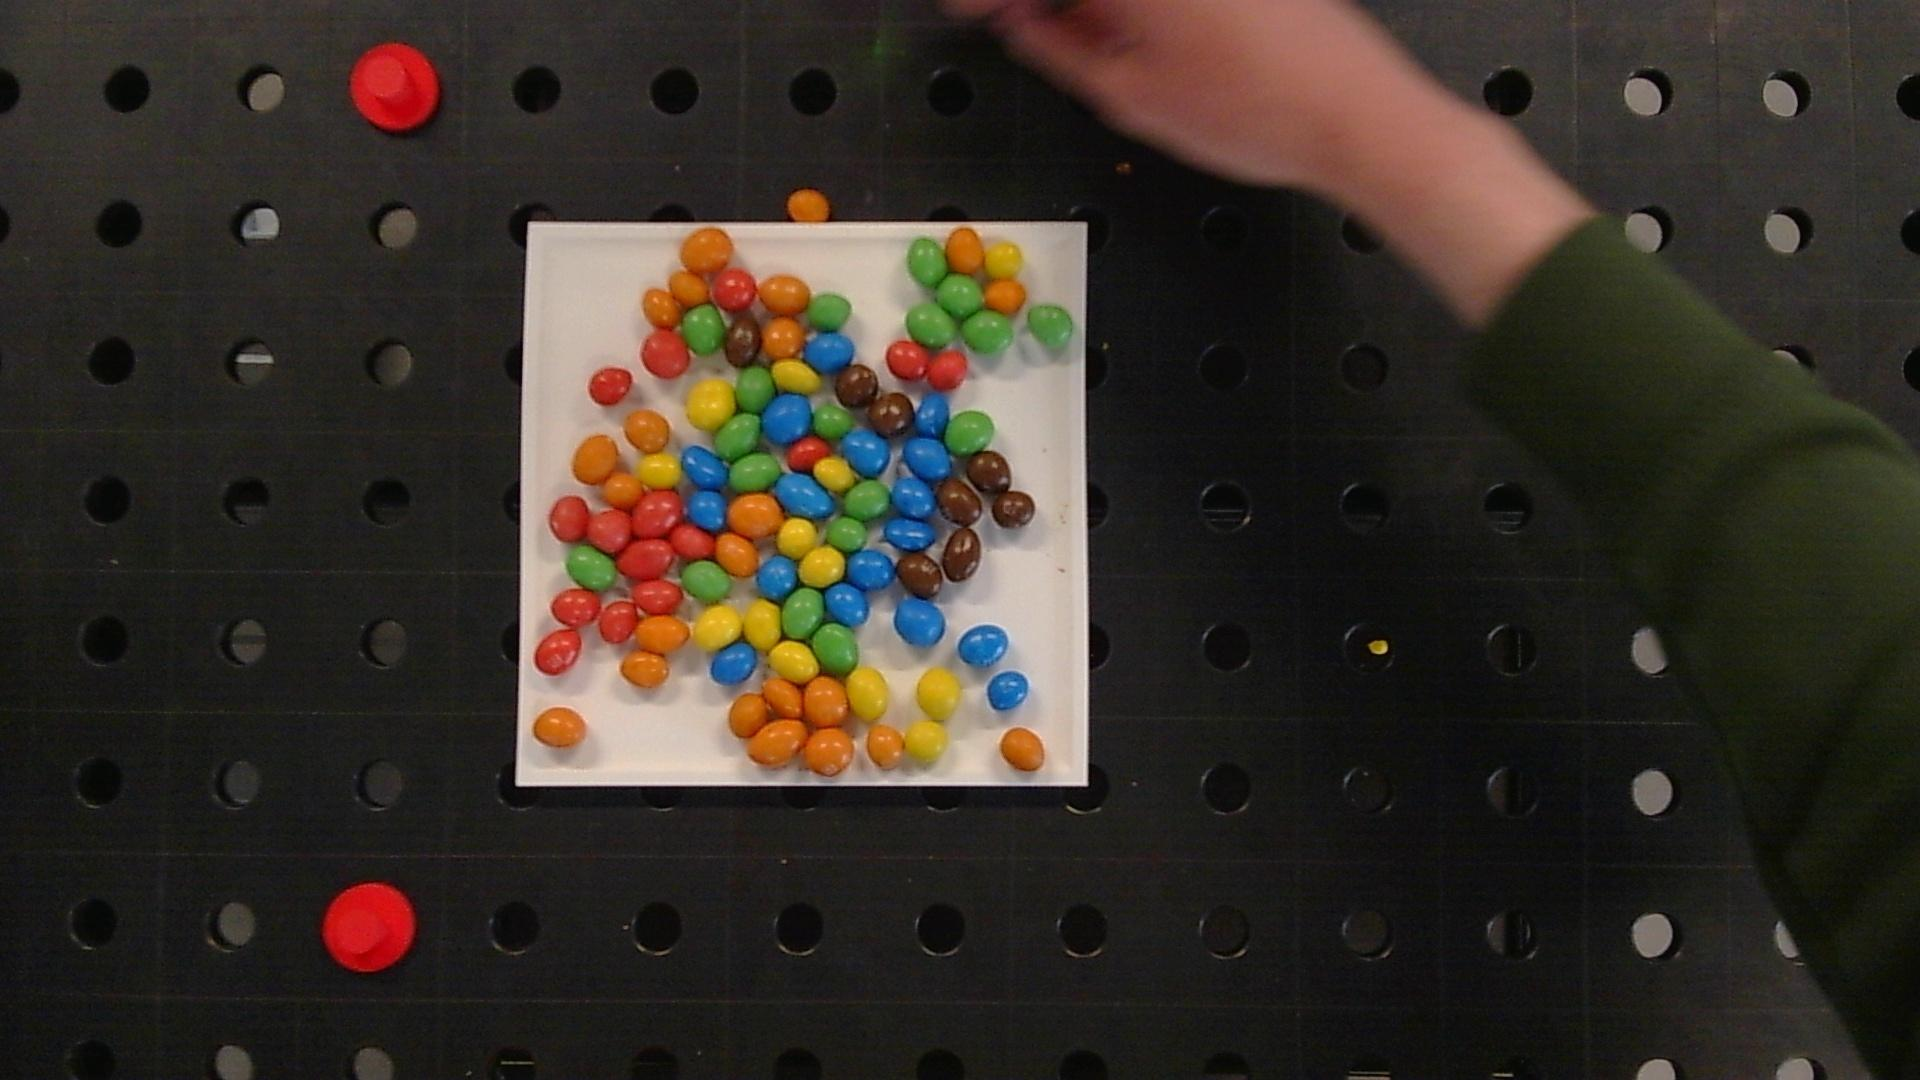blue: (775, 472, 836, 517), (894, 599, 945, 646), (762, 393, 811, 442), (844, 431, 890, 476), (709, 642, 758, 684), (804, 331, 855, 372), (959, 625, 1009, 666), (682, 446, 728, 489), (903, 438, 951, 480), (847, 551, 895, 591), (825, 584, 869, 625), (893, 477, 936, 518), (757, 555, 798, 596), (884, 518, 935, 550), (988, 671, 1029, 711), (687, 488, 727, 529), (915, 394, 948, 438)
brown: (938, 477, 982, 526), (940, 529, 981, 582), (898, 554, 942, 599), (870, 393, 914, 436), (836, 365, 878, 407), (967, 452, 1010, 492), (725, 315, 760, 364), (992, 491, 1036, 527)
green: (961, 311, 1015, 353), (812, 624, 858, 673), (566, 546, 616, 589), (680, 306, 725, 353), (715, 413, 761, 458), (936, 274, 984, 318), (945, 411, 994, 454), (680, 562, 732, 601), (1027, 305, 1073, 348), (907, 303, 955, 345), (782, 589, 823, 637), (907, 239, 947, 285), (844, 480, 890, 520), (731, 454, 779, 491), (736, 365, 773, 411), (808, 293, 852, 330), (827, 516, 868, 551), (812, 405, 853, 439)
orange: (748, 719, 807, 766), (804, 729, 856, 775), (729, 493, 782, 537), (572, 434, 617, 484), (682, 228, 732, 273), (533, 707, 587, 748), (804, 678, 848, 727), (758, 276, 810, 314), (1001, 727, 1044, 771), (636, 616, 690, 651), (715, 533, 758, 576), (625, 410, 669, 451), (621, 651, 670, 687), (762, 318, 804, 359), (865, 724, 905, 767), (729, 692, 767, 736), (947, 228, 984, 273), (786, 189, 829, 222), (642, 289, 679, 327), (764, 679, 802, 716), (984, 280, 1026, 313), (670, 270, 709, 305), (603, 472, 642, 505)
red: (641, 330, 690, 377), (632, 491, 683, 535), (618, 539, 671, 579), (534, 630, 582, 674), (588, 509, 632, 551), (549, 496, 588, 542), (551, 589, 600, 625), (713, 270, 757, 310), (588, 367, 633, 404), (597, 601, 637, 642), (633, 580, 682, 613), (886, 342, 930, 378), (670, 524, 715, 558), (928, 351, 968, 388), (790, 436, 829, 468)
yellow: (687, 380, 735, 429), (916, 667, 960, 720), (848, 667, 889, 720), (692, 605, 741, 649), (771, 642, 818, 682), (744, 600, 781, 649), (799, 547, 845, 585), (905, 721, 947, 761), (774, 360, 820, 393), (778, 518, 818, 556), (638, 454, 680, 487), (985, 243, 1023, 278), (815, 458, 852, 489)
